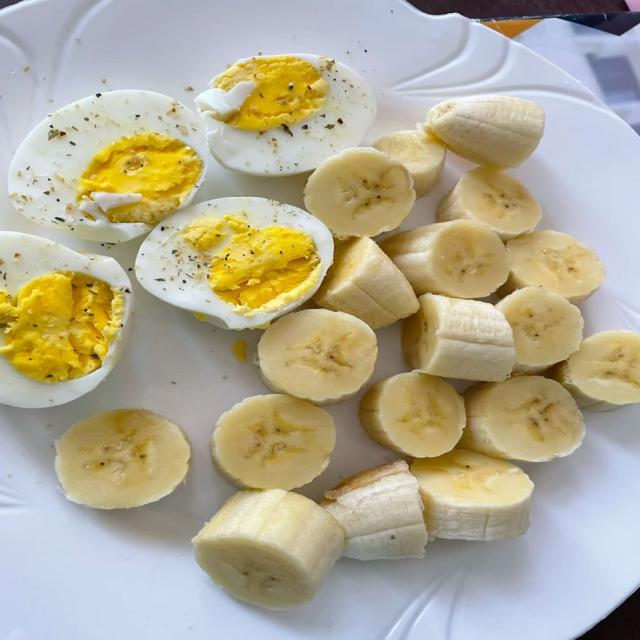egg boiled: (8, 91, 208, 242), (136, 198, 333, 329), (0, 232, 132, 407), (196, 54, 376, 175)
